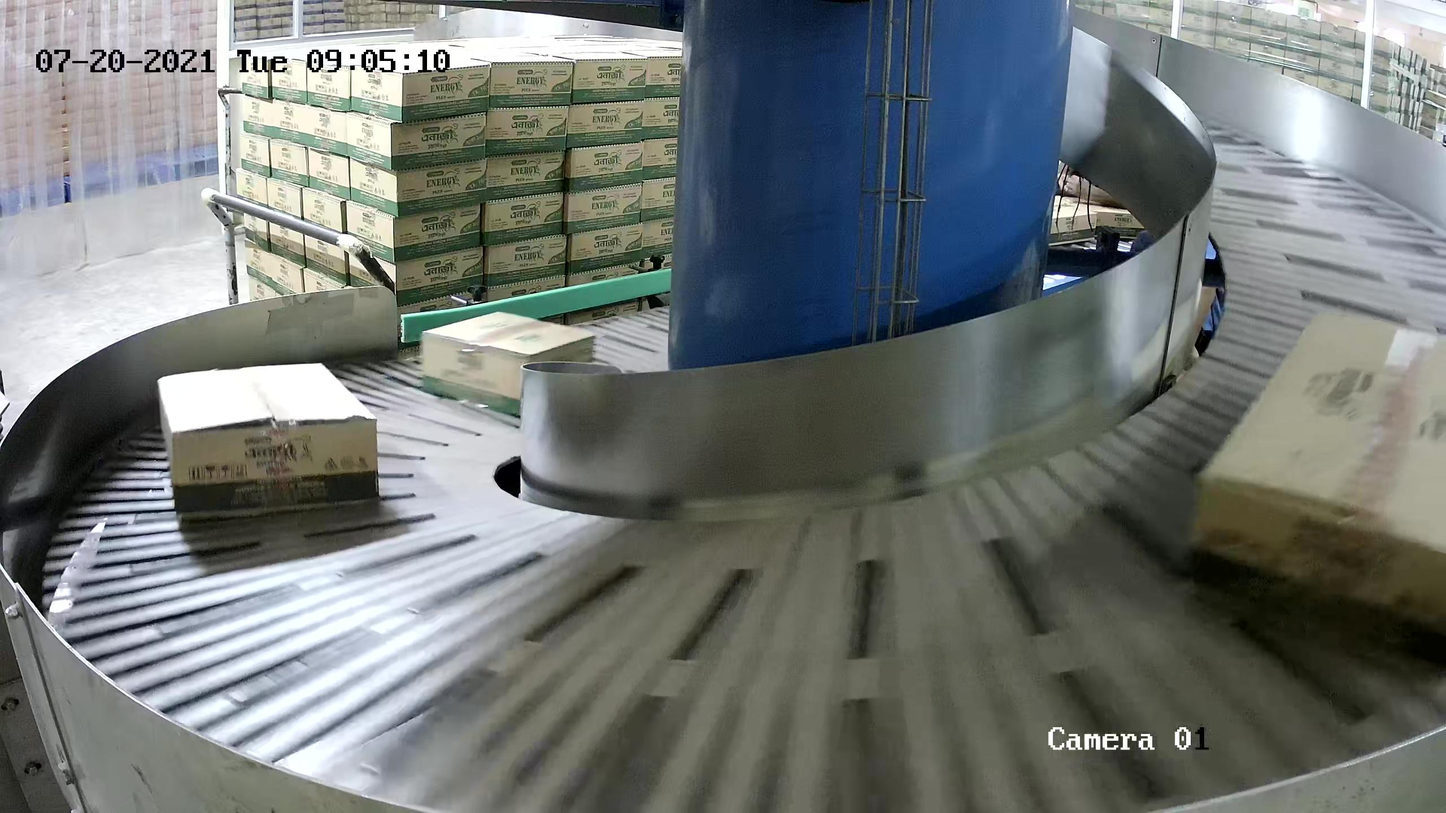Box: (1181, 303, 1446, 659), (155, 361, 381, 517), (420, 309, 597, 418)
